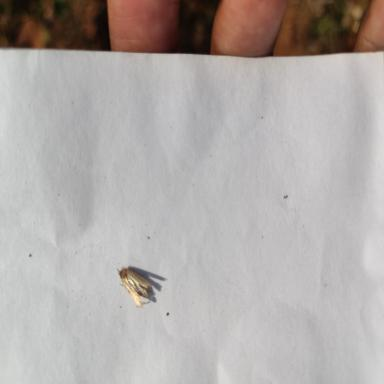pbw: (116, 267, 153, 308)
